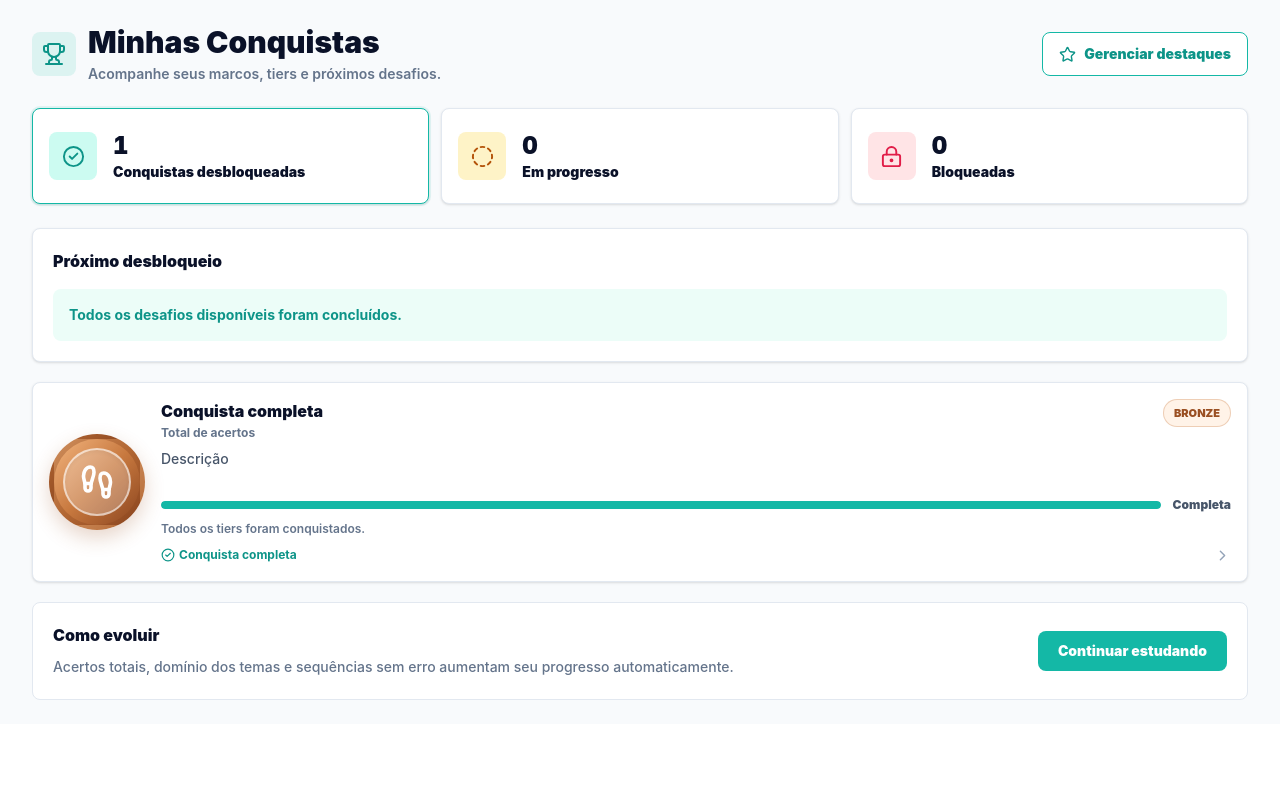
Scenario: ConquistasPage › informa categorias vazias e conclusão de todos os desafios
Expected: the text "Todos os desafios disponíveis foram concluídos." is shown, top-left (53, 289), bottom-right (1227, 341)
Click the button "0 Em progresso".
click(482, 156)  # box top-left (441, 108), bottom-right (839, 204)
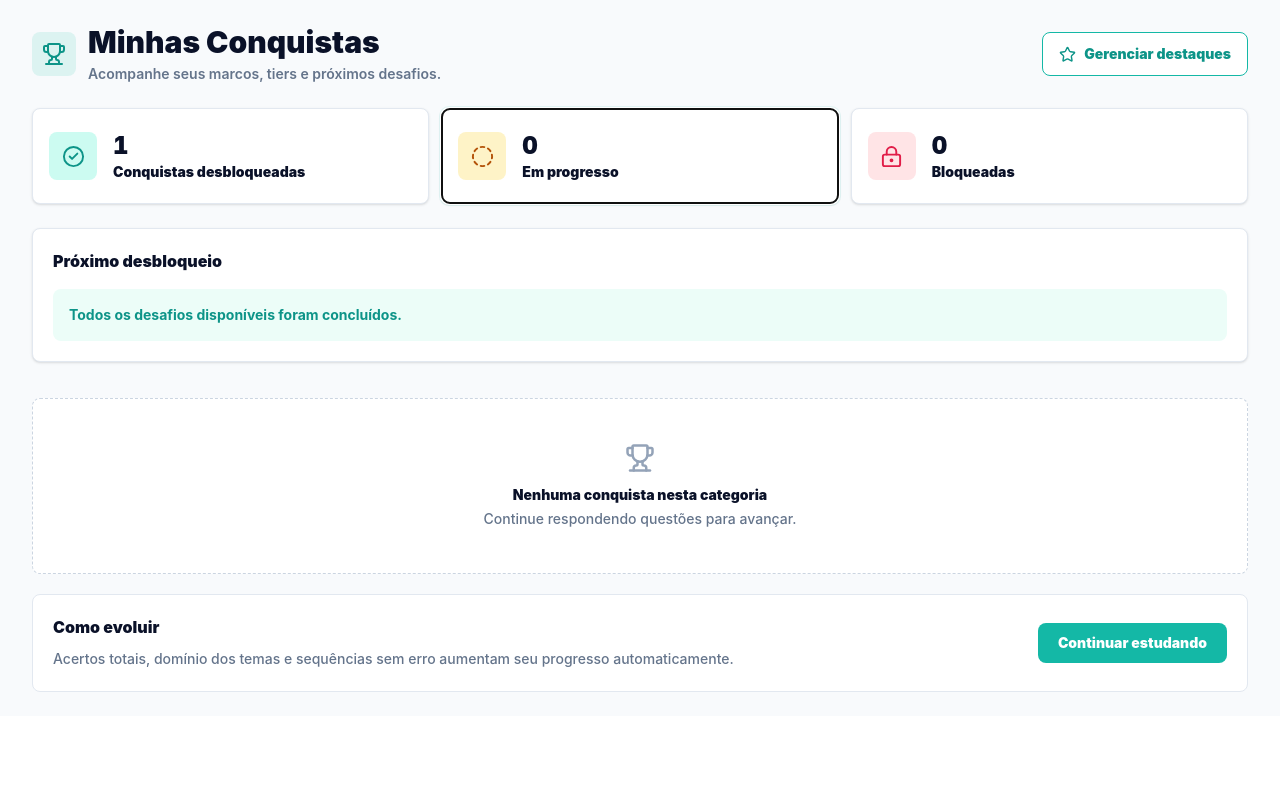
Expected: the text "Nenhuma conquista nesta categoria" is shown, top-left (513, 485), bottom-right (767, 505)
